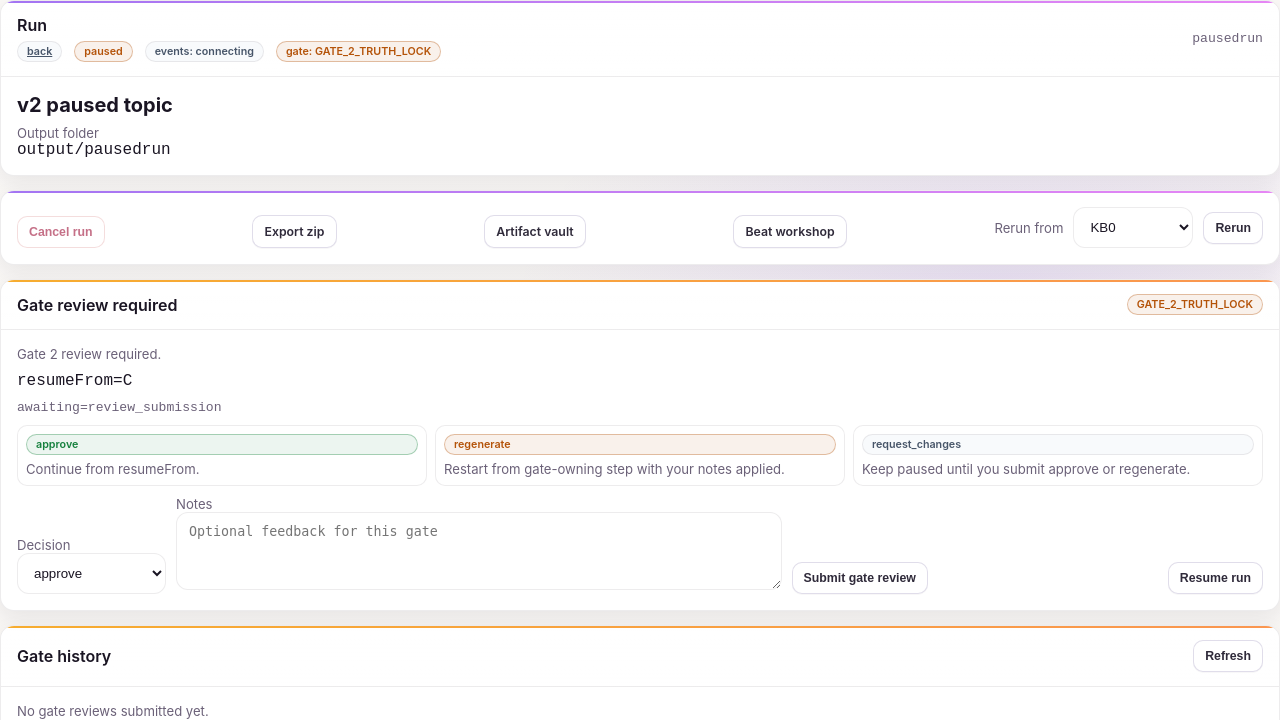
Test: RunViewer › surfaces non-Error resume failures for paused runs
Click the button "Resume run": (1215, 578) [1168,562,1263,594]
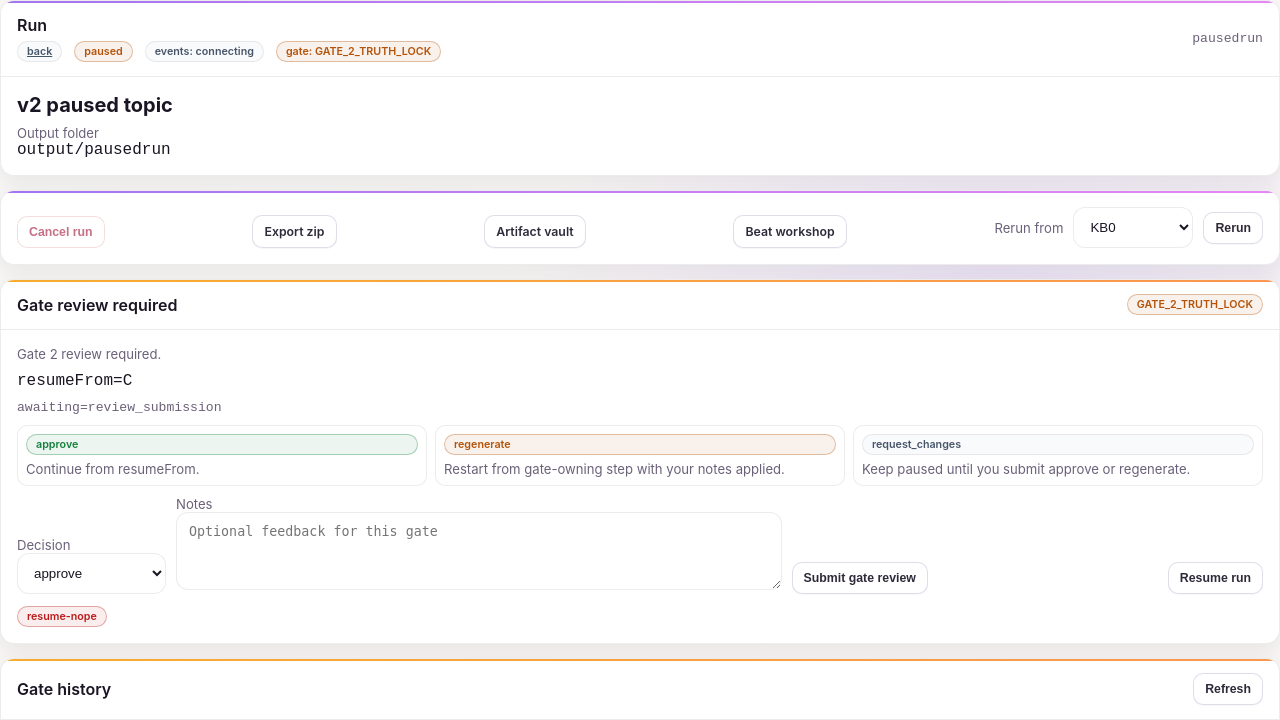
Expected: the text "resume-nope" is shown, [17,606,107,627]
